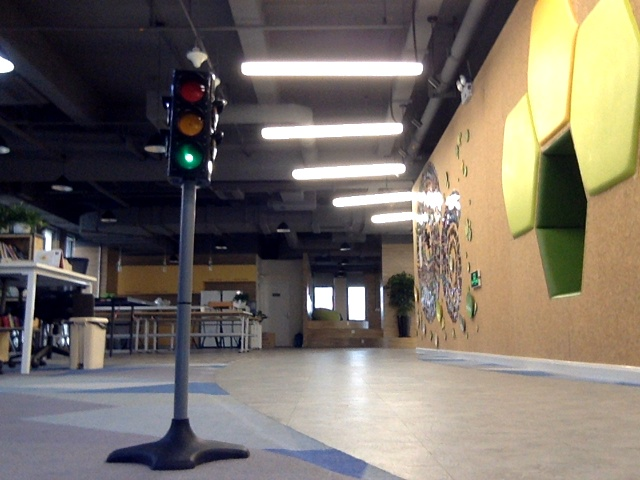green: (171, 77, 210, 175)
